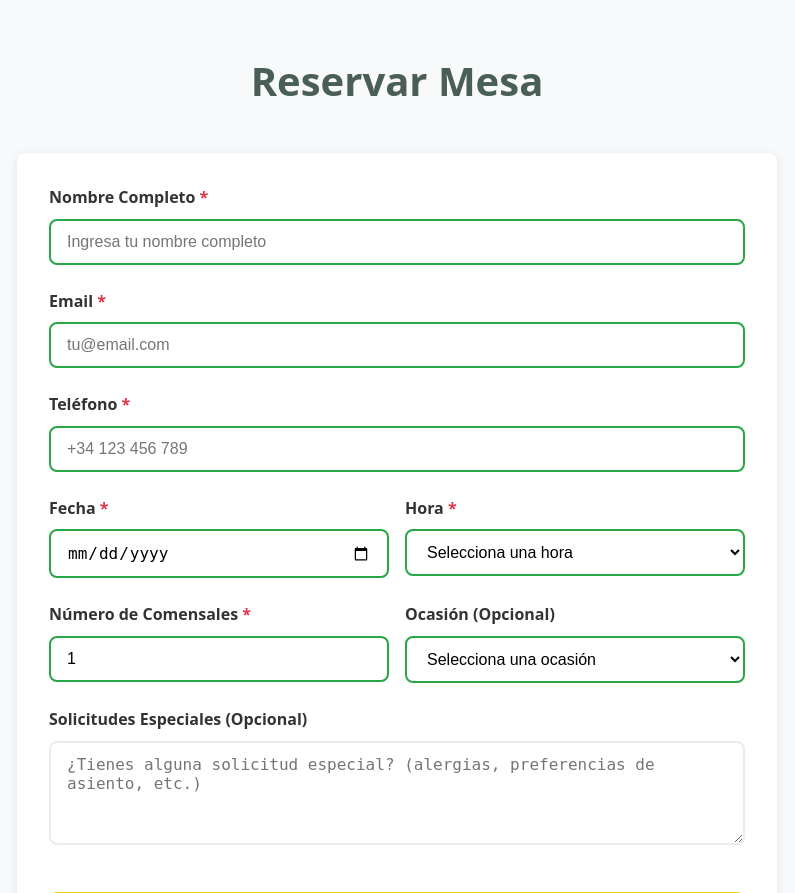
Test: BookingForm › validates number of guests range
The image size is (795, 893).
Replace the text in the number field labelled "Número de Comensales" with "0" at (219, 659), box 49,636 -> 389,682
(page scrolled)
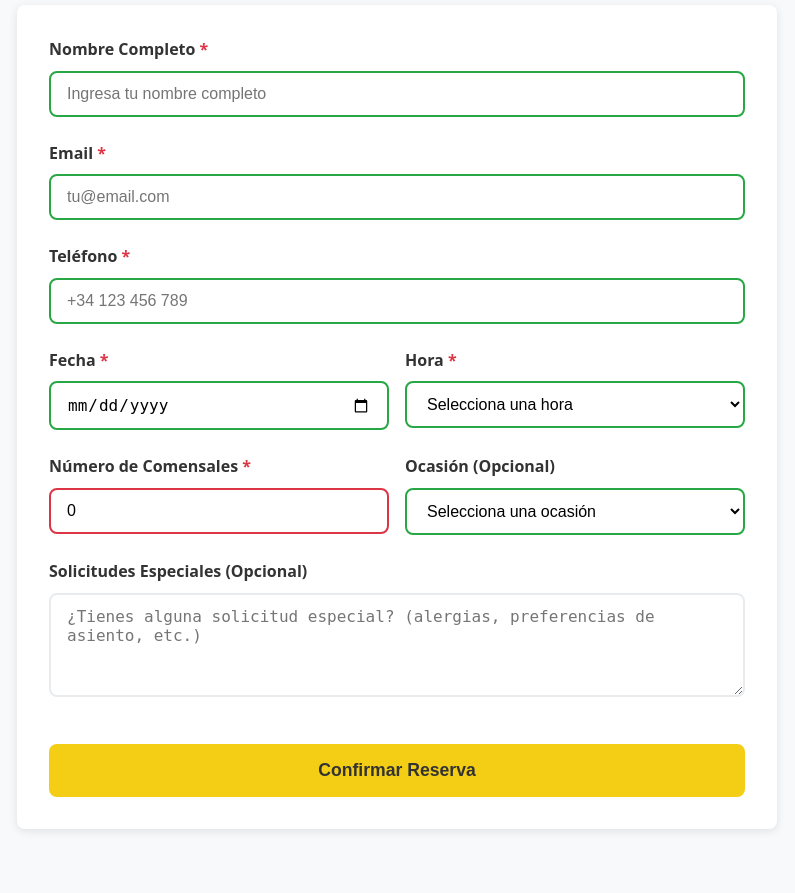
Click the button "Confirmar Reserva" at (397, 771), box 49,744 -> 745,797
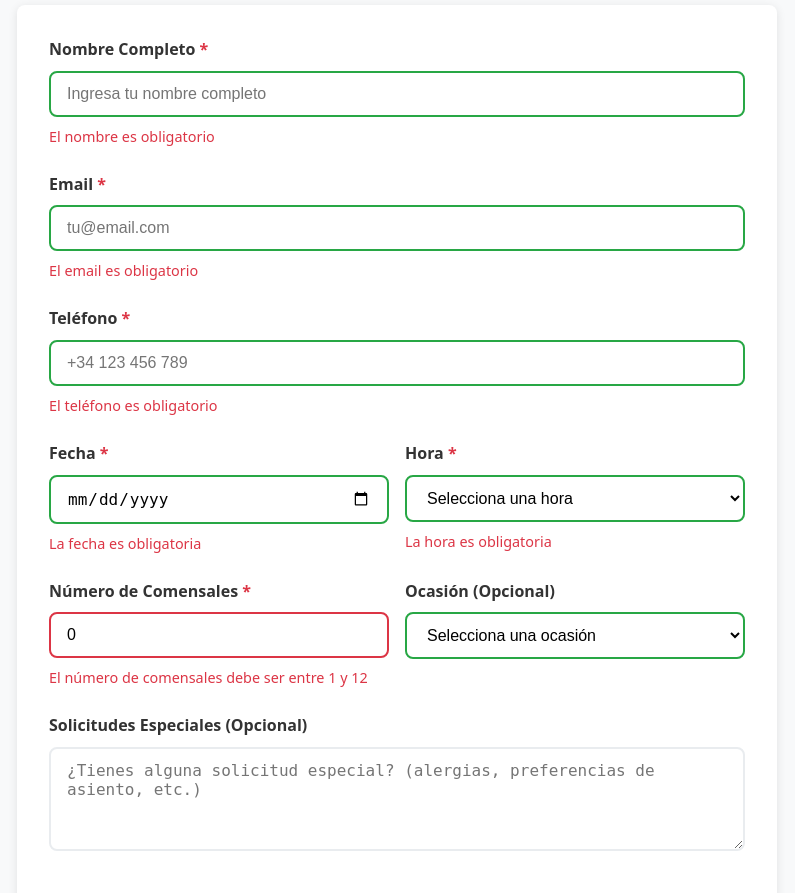
Check: the text "El número de comensales debe ser entre 1 y 12" is shown, box 49,666 -> 389,689
